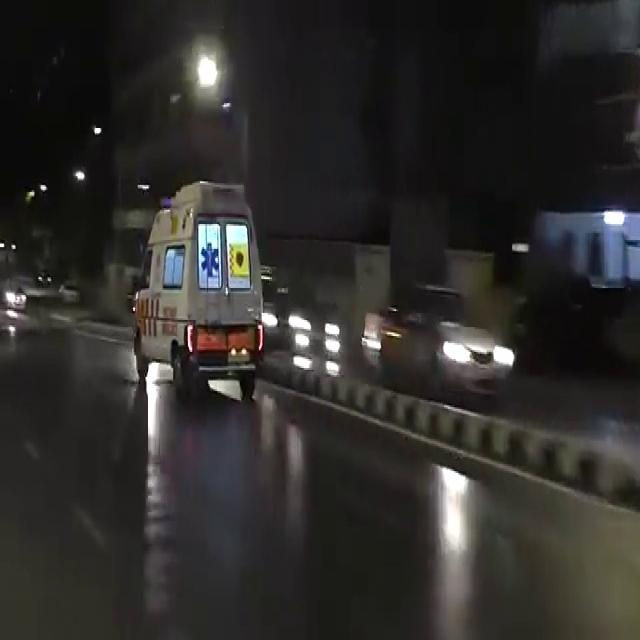ambulance: (127, 184, 264, 373)
